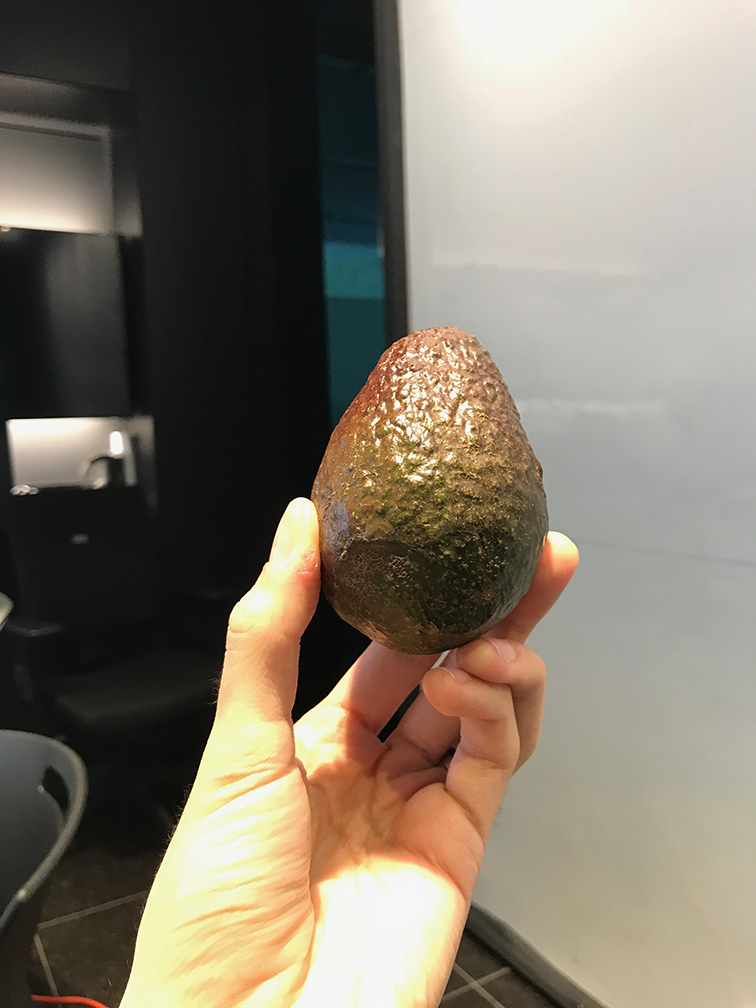avocado: (315, 321, 553, 662)
